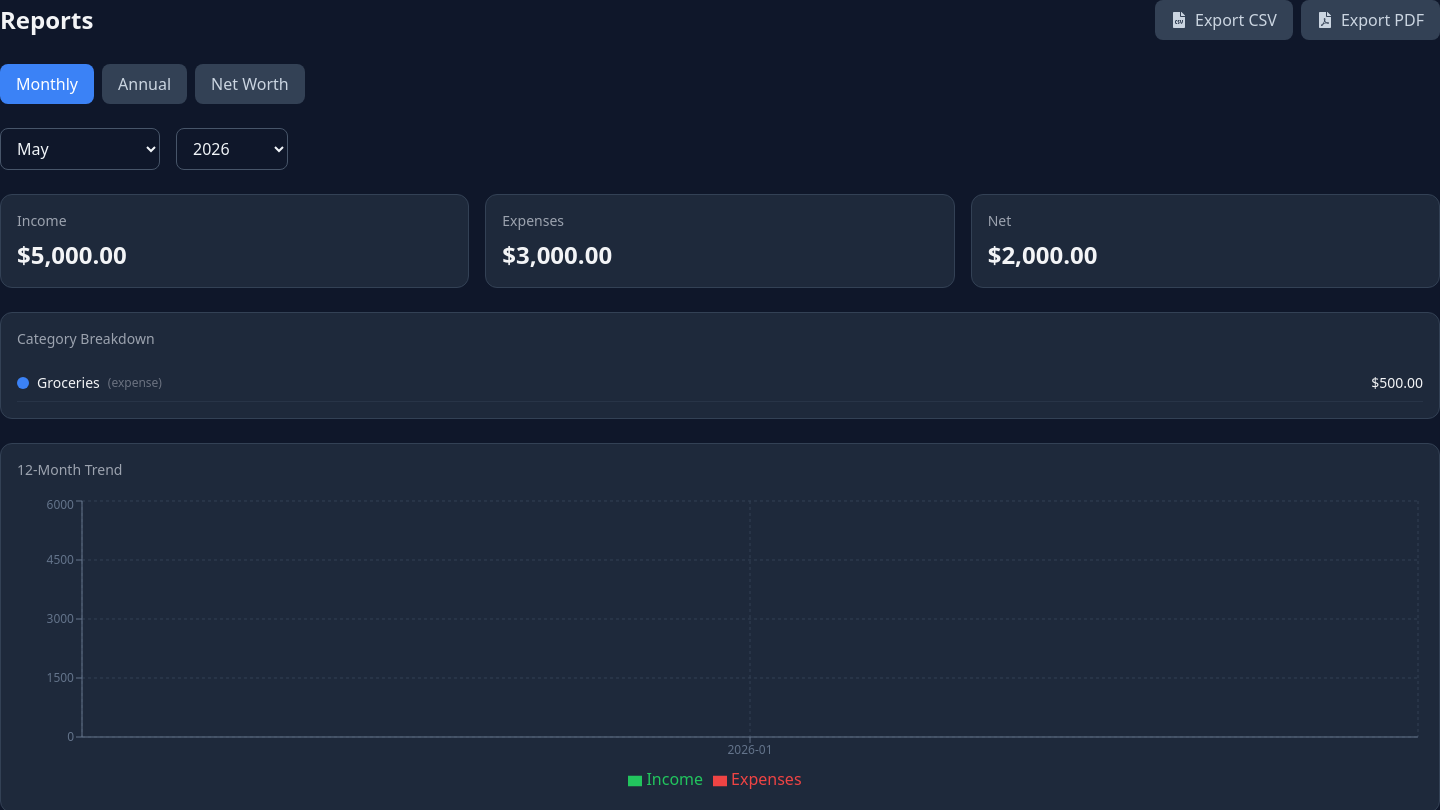
Reports › switches to net worth tab
This screenshot has width=1440, height=810.
Step 1. Click the button "Net Worth" → (250,84), box [195,64,305,104]
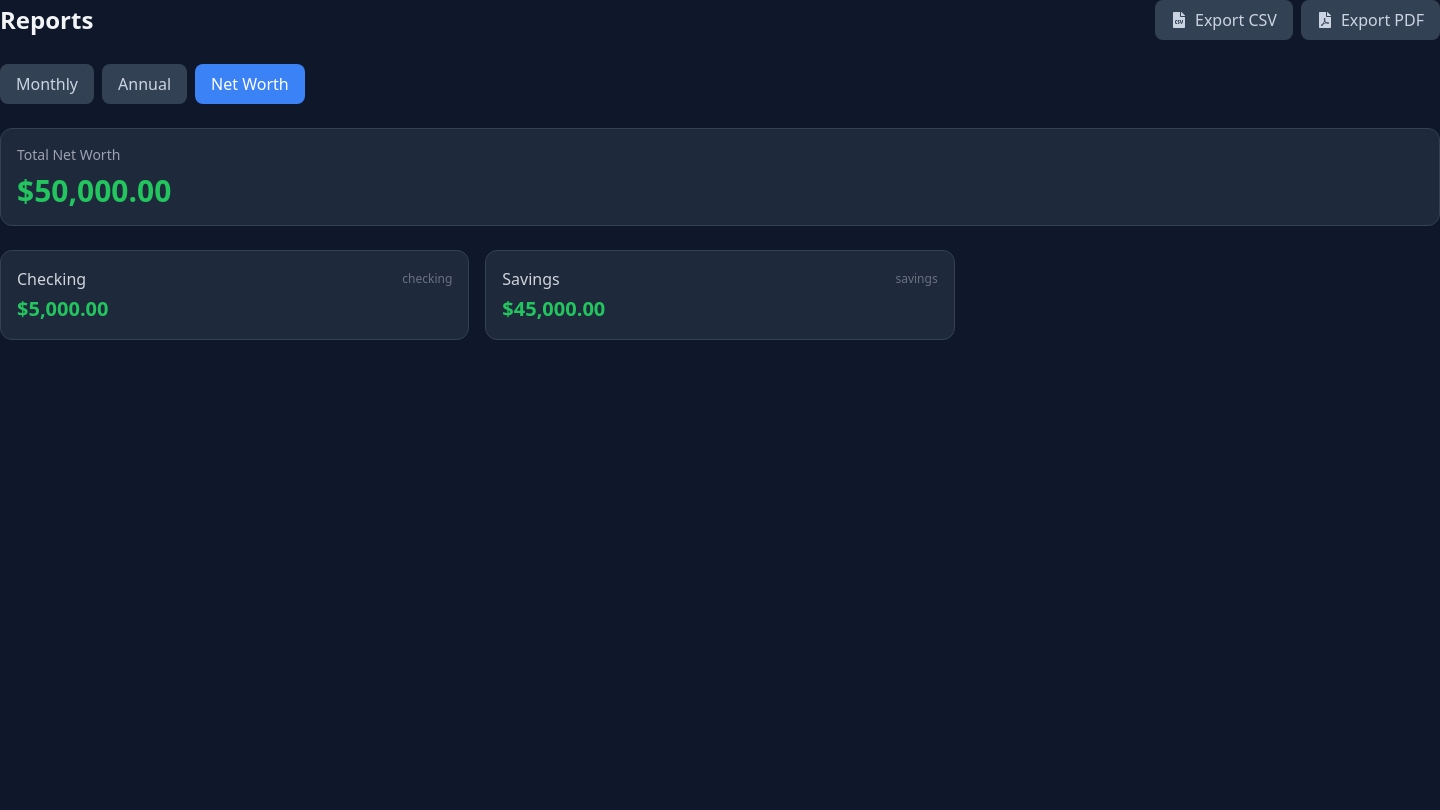
Check: the heading "Total Net Worth" is shown, box [17,145,120,164]
